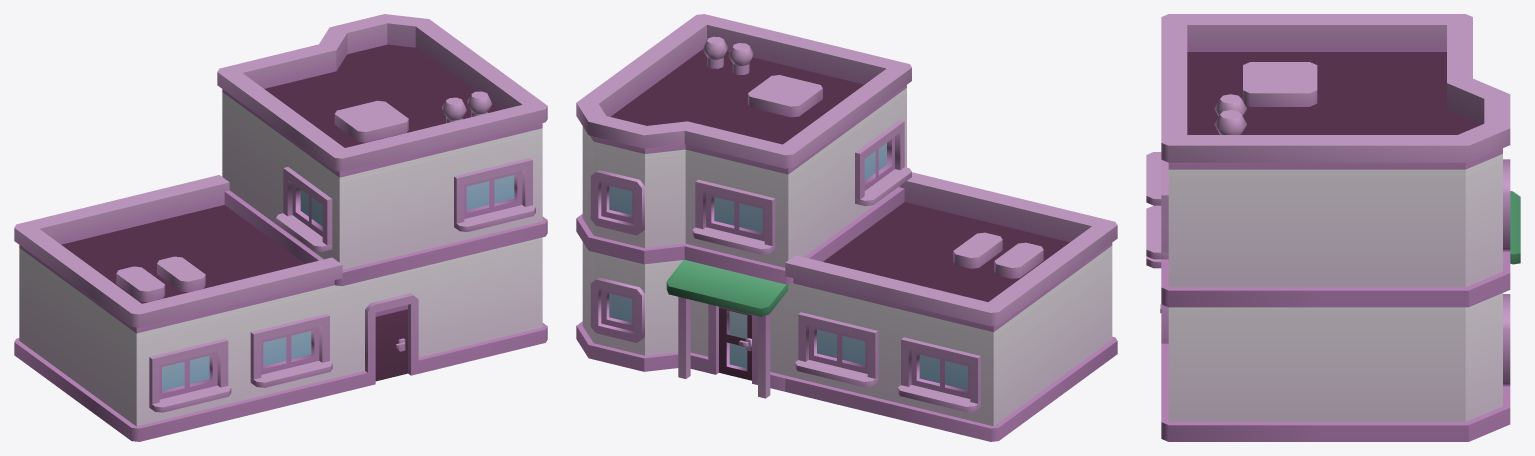
The model's file is diner_1story.obj.
3 views of the same model, side by side, from view 1: azimuth 30°, elevation 25°; view 2: azimuth 150°, elevation 25°; view 3: azimuth 270°, elevation 25° (orthographic). The views are drawn at different scales.
Visible parts, largest first — view 1: building-e; view 2: building-e; view 3: building-e.
Part boxes in pixels (x1,y1,x2,y2): building-e: (14,14,547,441); building-e: (576,14,1117,441); building-e: (1146,14,1520,441).
Bounding box in the file's own units: 32.8 × 17.86 × 20.16.
Materials: 1 (1 with a texture image).
